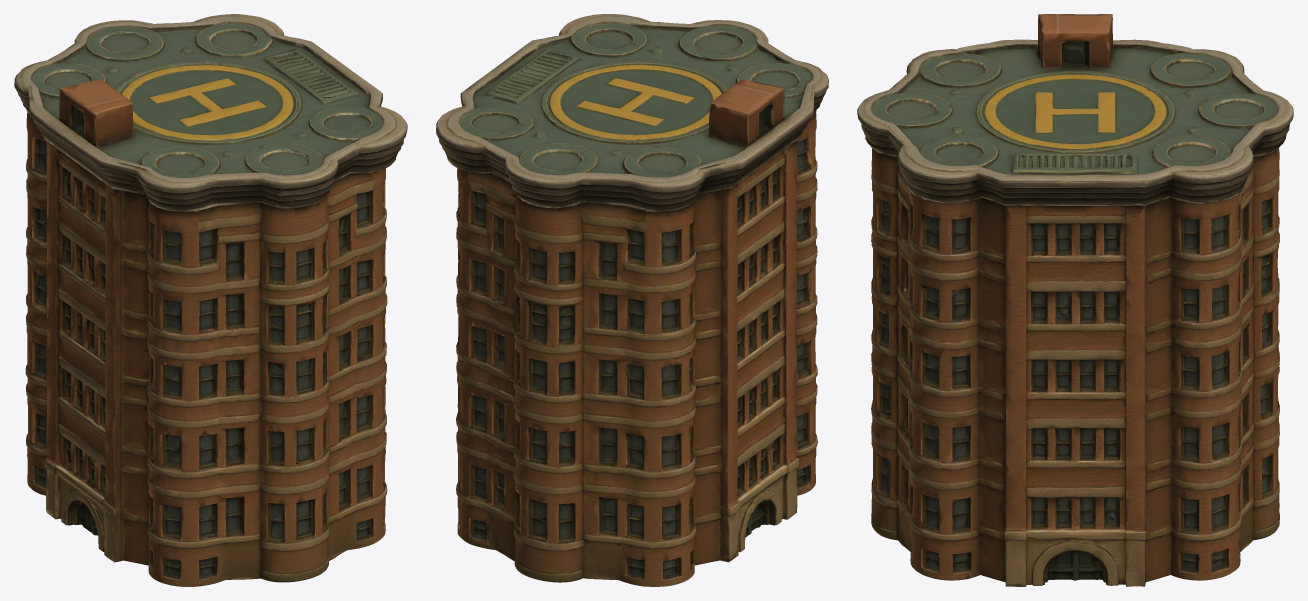
Rendered from building3d4.glb.
3 views of the same model, side by side, from view 1: azimuth 30°, elevation 25°; view 2: azimuth 150°, elevation 25°; view 3: azimuth 270°, elevation 25° (orthographic). The views are drawn at different scales.
Parts seen in each view (by area): view 1: tripo_node_95a914f4-1209-4f9a-b9b9-e639e7286d04; view 2: tripo_node_95a914f4-1209-4f9a-b9b9-e639e7286d04; view 3: tripo_node_95a914f4-1209-4f9a-b9b9-e639e7286d04.
Boxes of the visible parts, x1,y1,x2,y2 form: tripo_node_95a914f4-1209-4f9a-b9b9-e639e7286d04: (14,14,407,586); tripo_node_95a914f4-1209-4f9a-b9b9-e639e7286d04: (436,14,828,586); tripo_node_95a914f4-1209-4f9a-b9b9-e639e7286d04: (857,14,1293,586).
Bounding box in the file's own units: 0.678 × 1 × 0.8862.
1 material, 1 textured.
